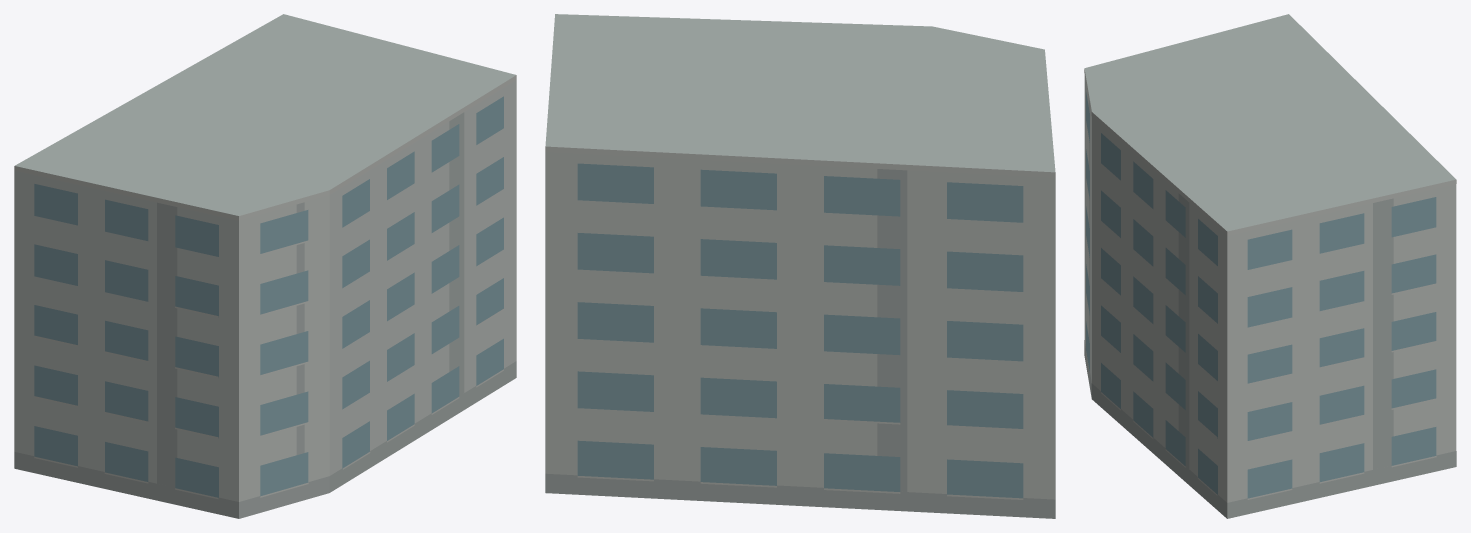
File: residential-346d1515-16f2-4d23-8906-4330828a58ae.glb
3 views of the same model, side by side, from view 1: azimuth 30°, elevation 25°; view 2: azimuth 150°, elevation 25°; view 3: azimuth 270°, elevation 25° (orthographic). The views are drawn at different scales.
Parts seen in each view (by area): view 1: residential-346d1515-16f2-4d23-8906-4330828a58ae.tmp; view 2: residential-346d1515-16f2-4d23-8906-4330828a58ae.tmp; view 3: residential-346d1515-16f2-4d23-8906-4330828a58ae.tmp.
Boxes of the visible parts, x1,y1,x2,y2 form: residential-346d1515-16f2-4d23-8906-4330828a58ae.tmp: [14, 14, 516, 518]; residential-346d1515-16f2-4d23-8906-4330828a58ae.tmp: [545, 14, 1055, 518]; residential-346d1515-16f2-4d23-8906-4330828a58ae.tmp: [1084, 14, 1456, 518].
Bounding box in the file's own units: 24.77 × 15.25 × 17.9.
